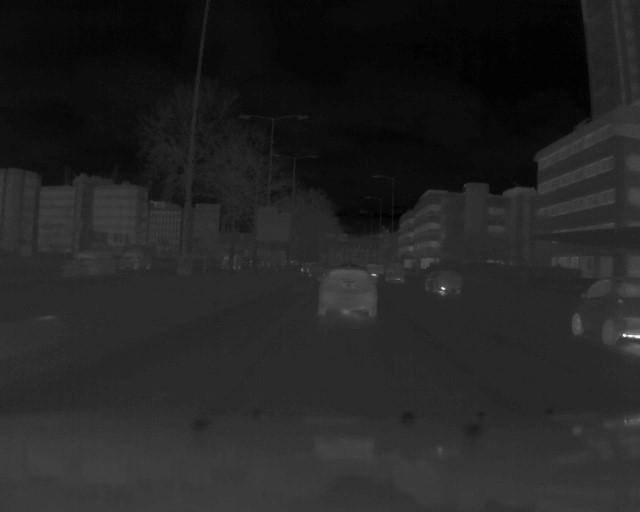car: (565, 275, 640, 345), (316, 265, 377, 317), (420, 267, 464, 297), (383, 259, 406, 284)
